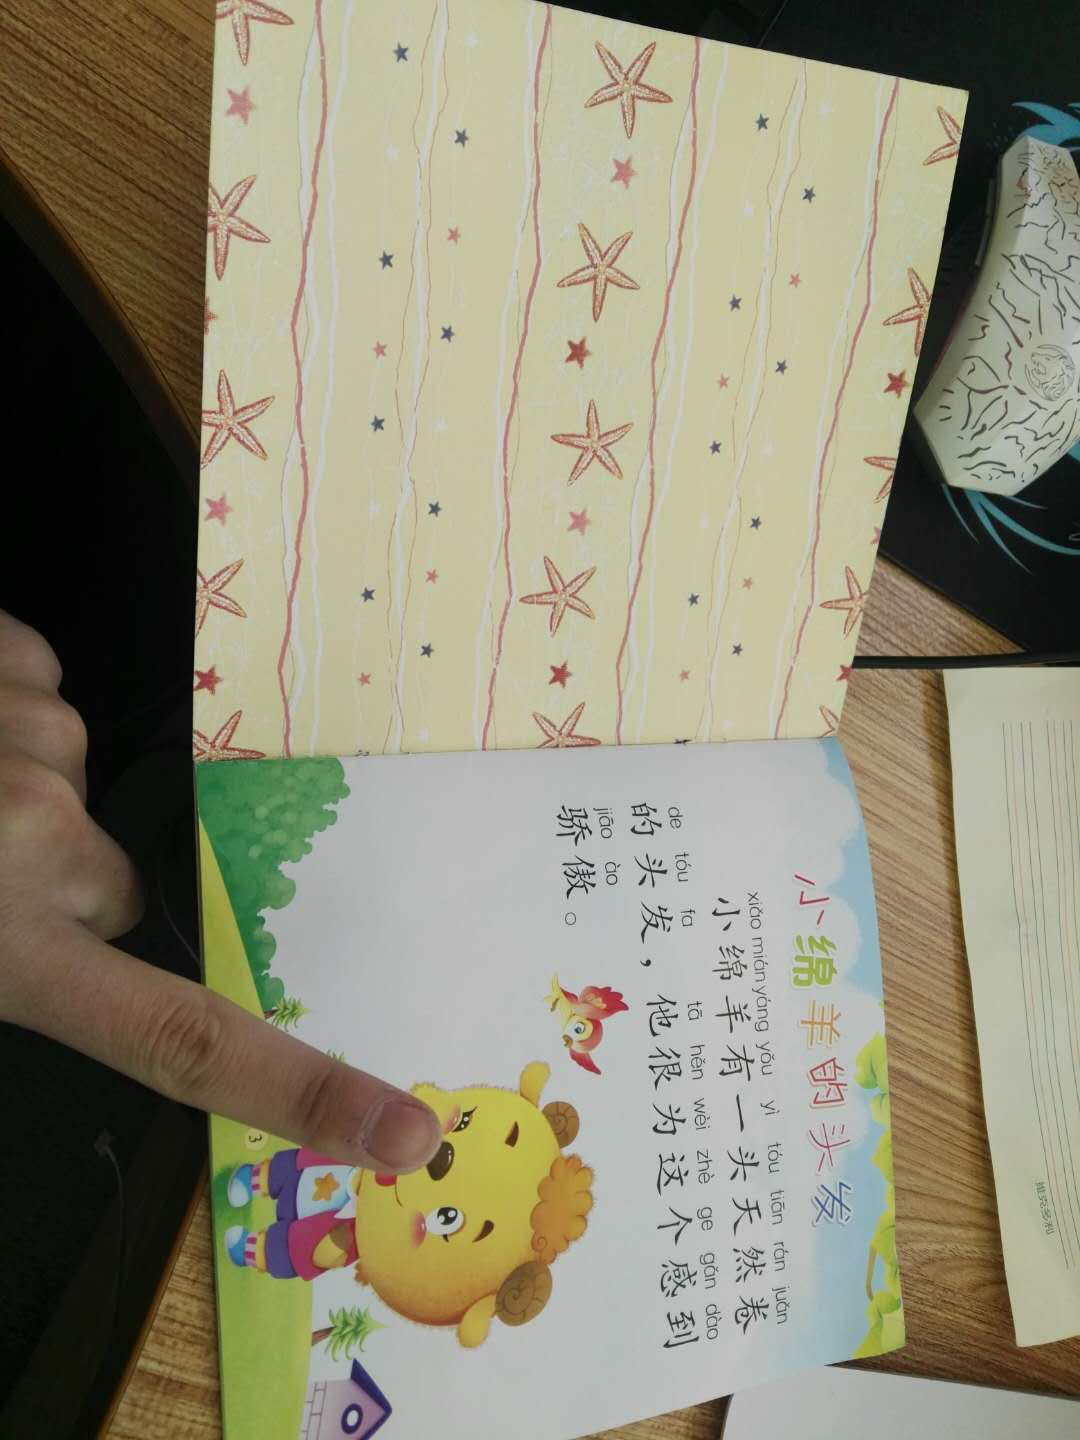finger: (278, 1025, 455, 1217)
